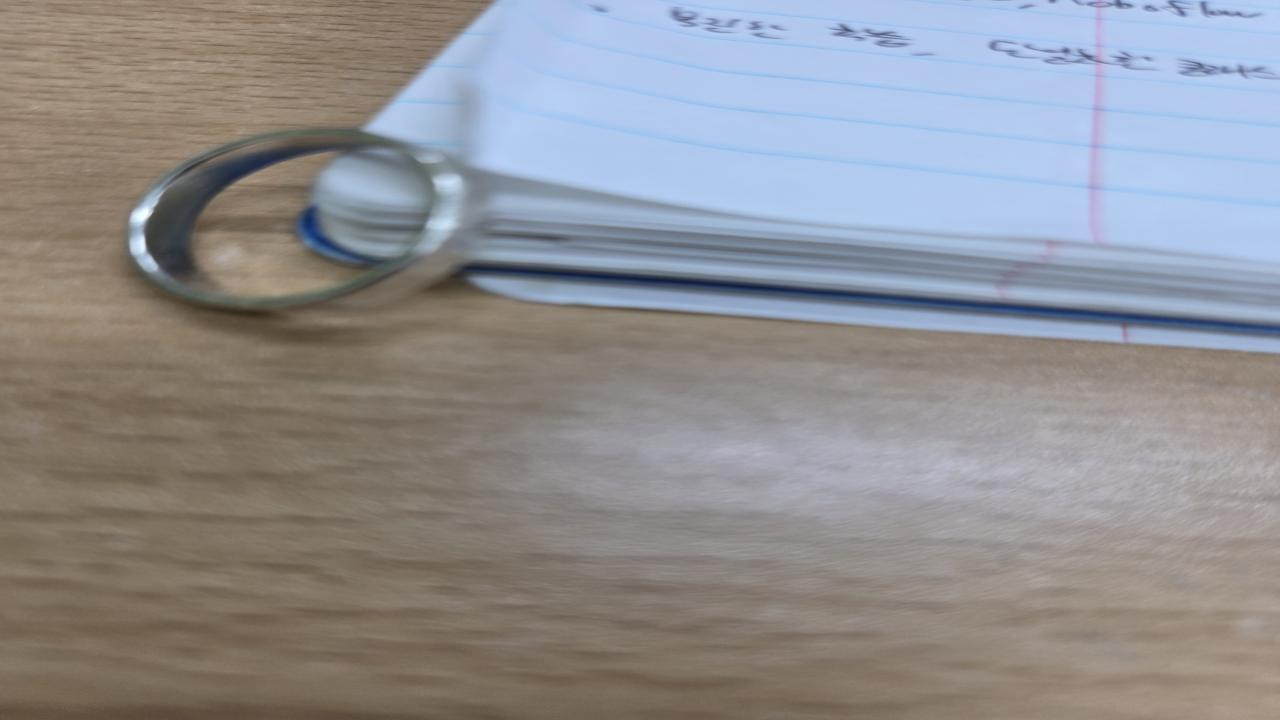ring: (122, 128, 496, 318)
